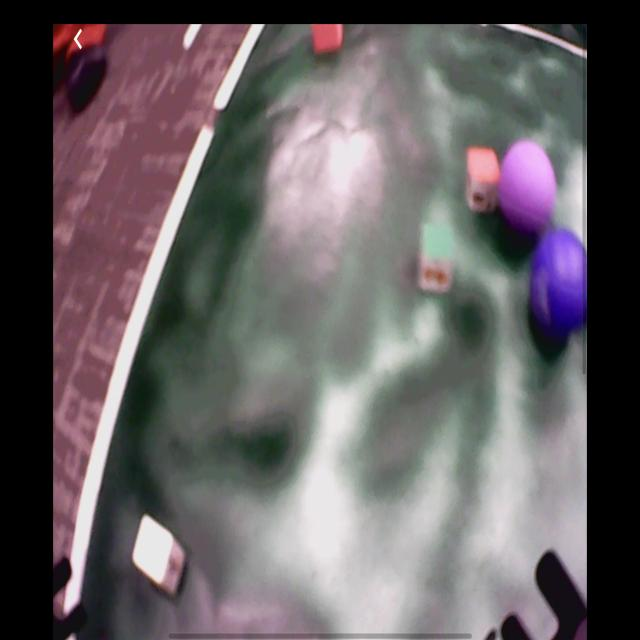ball: (530, 227, 589, 335), (500, 139, 556, 231)
